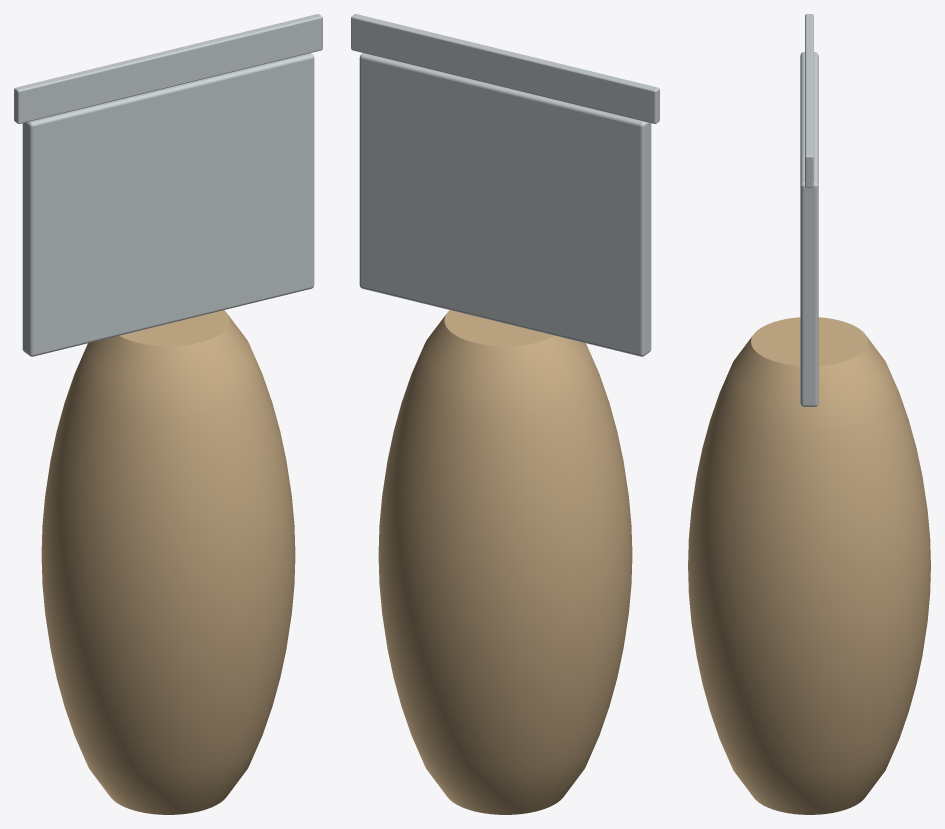
The model's file is bookbinding-and-paper-mill-leather-paring-knife-43b5a17d__30573.glb.
3 renders of one model, left to right at view 1: azimuth 30°, elevation 25°; view 2: azimuth 150°, elevation 25°; view 3: azimuth 270°, elevation 25°, orthographic. The views are drawn at different scales.
Parts seen in each view (by area): view 1: leather-paring-knife; view 2: leather-paring-knife; view 3: leather-paring-knife.
Boxes of the visible parts, x1,y1,x2,y2 form: leather-paring-knife: (14, 14, 322, 814); leather-paring-knife: (351, 14, 659, 814); leather-paring-knife: (688, 14, 930, 814).
Size of the model in its own units: 0.075 by 0.173 by 0.054.
